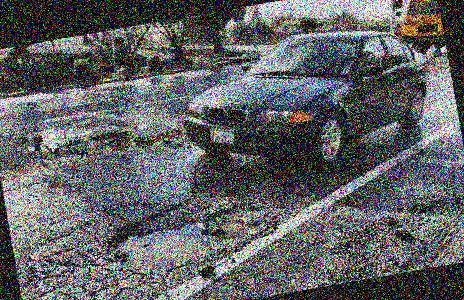pothole: (107, 193, 270, 274)
